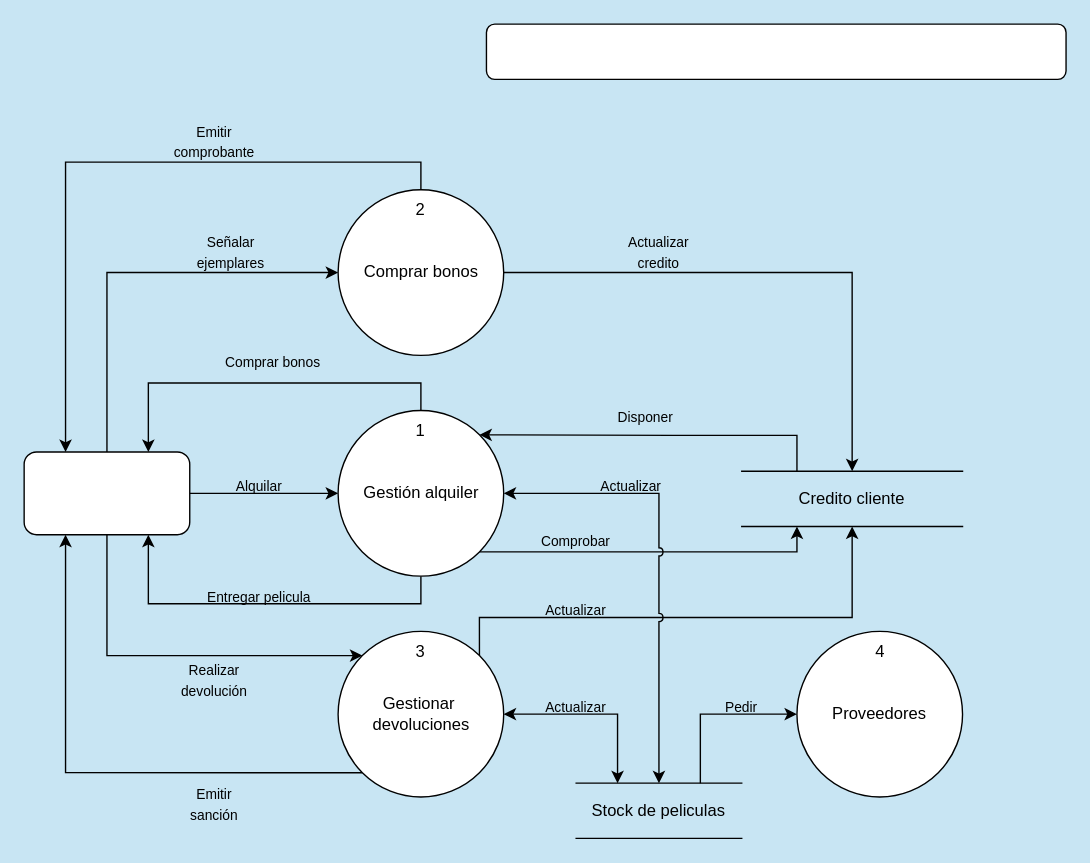
The diagram is 1090 pixels wide and 863 high, and some of its shapes have lost their labels. Here are the shapes that lost their labels. From the top down, the centre of each, then its label:
At point 775,51: "Diagrama 0: Gestinar Videoclub".
At point 106,493: "Cliente".
